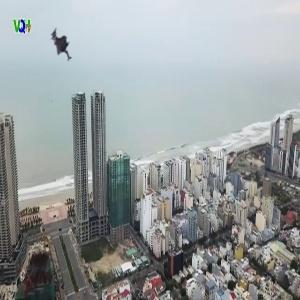drone: (31, 24, 87, 80)
